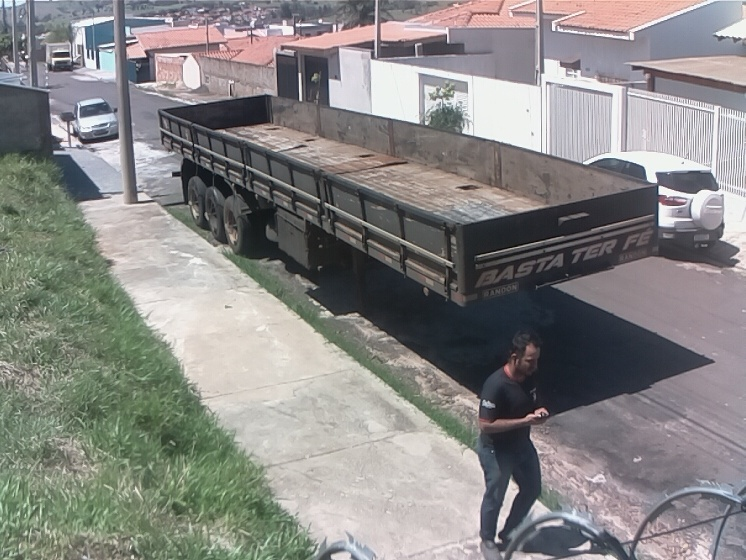person: (476, 328, 550, 560)
